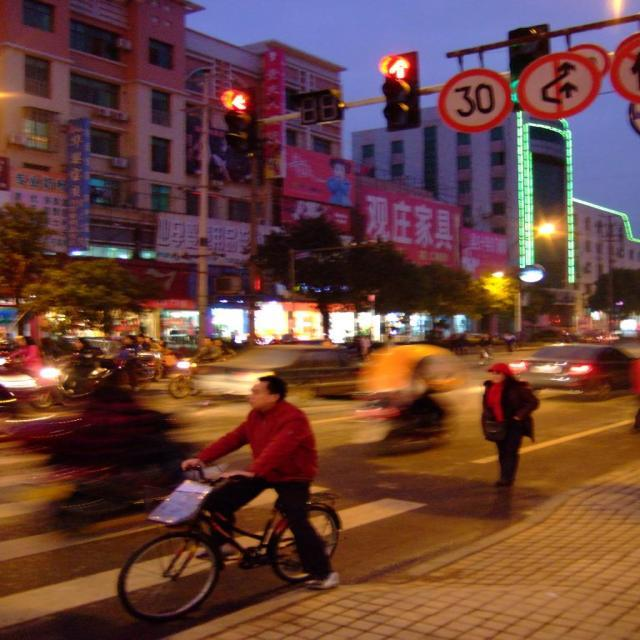road_sign: (520, 54, 598, 118), (439, 68, 512, 133)
traffic light: (220, 89, 261, 154), (383, 54, 418, 130)
